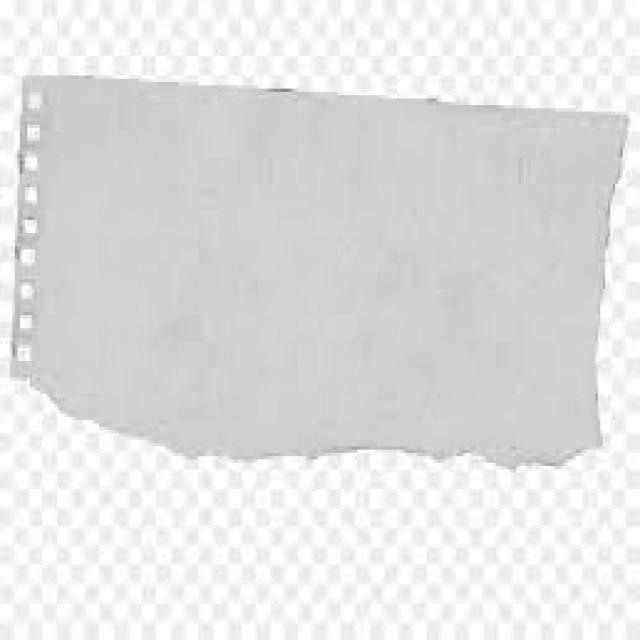Papel: (15, 84, 629, 465)
